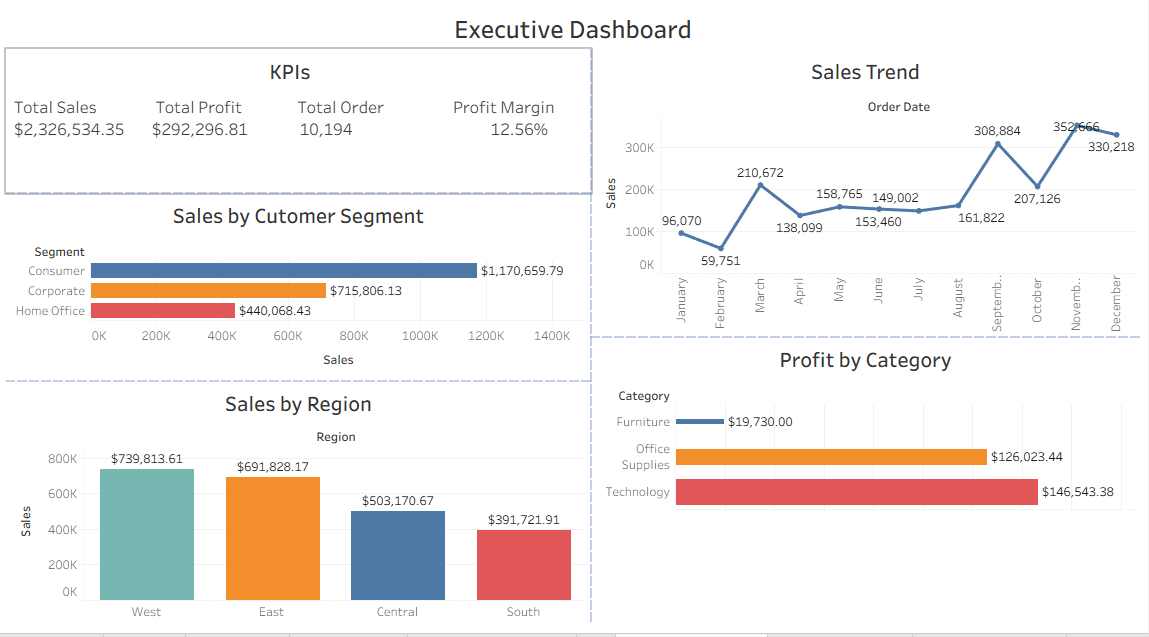

This screenshot's page, from the dashboard's own definition file:
{"tool":"tableau","page":{"name":"Executive Dashboard","canvas":[1000,1000],"units":"permille","ordinal":0},"visuals":[{"type":"title","box":[7,12.6,986.1,64.8]},{"type":"worksheet","title":"KPIs","mark":"Automatic","box":[7,77.4,508.4,227.4]},{"type":"worksheet","title":"Sales Trend","mark":"Automatic","rows":["Sales"],"cols":["Order Date"],"box":[515.3,77.4,477.7,455]},{"type":"worksheet","title":"Sales by Cutomer Segment","mark":"Automatic","rows":["Segment"],"cols":["Sales"],"box":[7,304.8,508.4,297.3]},{"type":"worksheet","title":"Profit by Category","mark":"Automatic","rows":["Category"],"cols":["Profit"],"box":[515.3,532.4,477.7,455]},{"type":"worksheet","title":"Sales by Region","mark":"Bar","rows":["Sales"],"cols":["Region"],"box":[7,602.1,508.4,385.2]}]}

Visuals, with their boxes on the dashboard's canvas, which has no fixed pixel size, in thousandths of its width and height (x1, y1, x2, y2). These are canvas units, not pixel positions in the 1149x637 screenshot, which may show the page scaled, cropped or inside an application window:
title: <region>7, 13, 993, 77</region>
"KPIs" worksheet: <region>7, 77, 515, 305</region>
"Sales Trend" worksheet: <region>515, 77, 993, 532</region>
"Sales by Cutomer Segment" worksheet: <region>7, 305, 515, 602</region>
"Profit by Category" worksheet: <region>515, 532, 993, 987</region>
"Sales by Region" worksheet (Bar marks): <region>7, 602, 515, 987</region>
